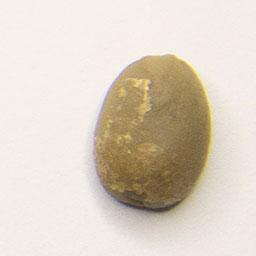premium: (90, 51, 215, 213)
